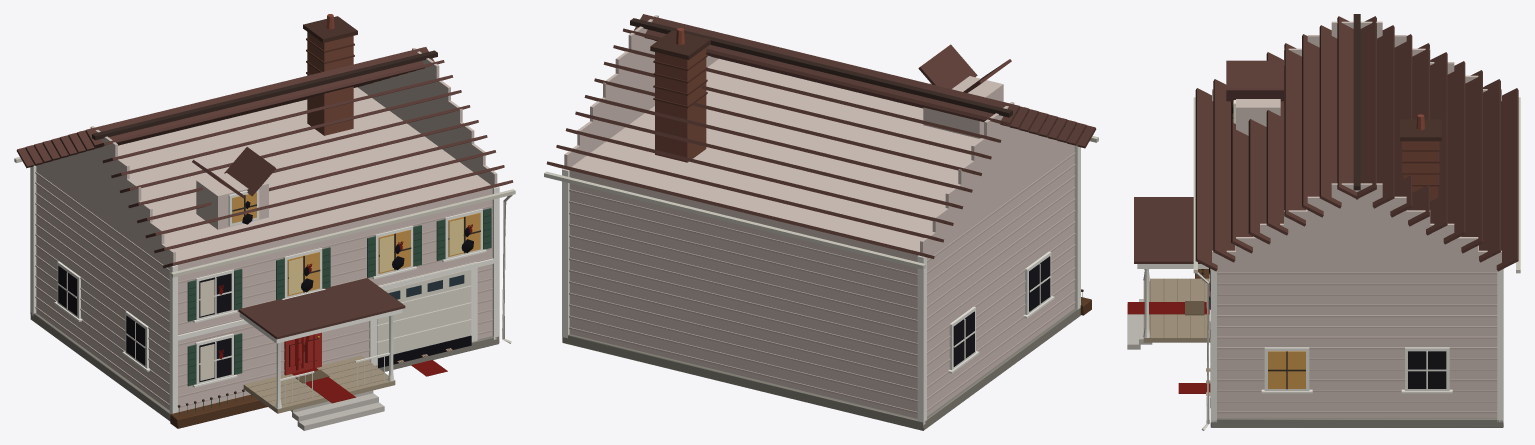
File: suburb_house_bloody.glb
3 views of the same model, side by side, from view 1: azimuth 30°, elevation 25°; view 2: azimuth 150°, elevation 25°; view 3: azimuth 270°, elevation 25° (orthographic). The views are drawn at different scales.
Visible parts, largest first — view 1: suburb_house_bloody; view 2: suburb_house_bloody; view 3: suburb_house_bloody.
Boxes of the visible parts, left/top/right/bottom form: suburb_house_bloody: left=14, top=14, right=515, bottom=430; suburb_house_bloody: left=544, top=14, right=1098, bottom=430; suburb_house_bloody: left=1127, top=14, right=1520, bottom=430.
Size of the model in its own units: 12.83 by 9.65 by 12.34.
